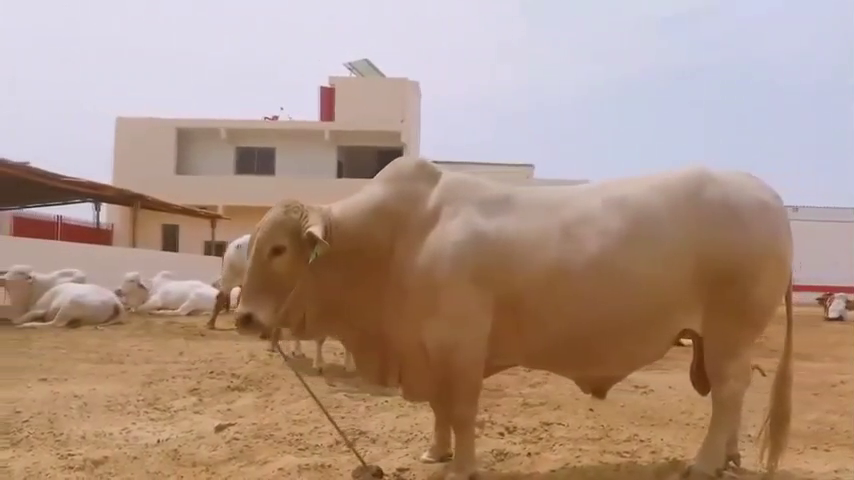bo: (243, 150, 808, 480), (134, 259, 222, 327), (23, 279, 131, 334), (3, 254, 87, 318), (205, 222, 257, 324)
